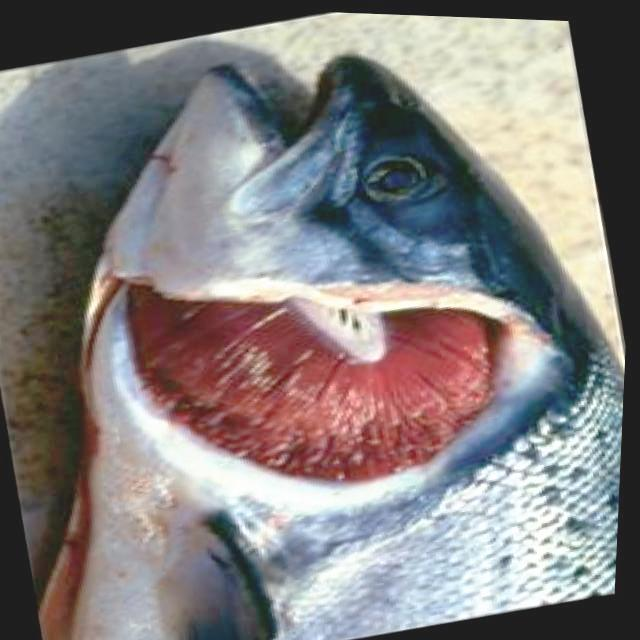Flavobacterium -Bacterial Gill Disease-: (40, 56, 622, 639), (41, 55, 622, 639)
